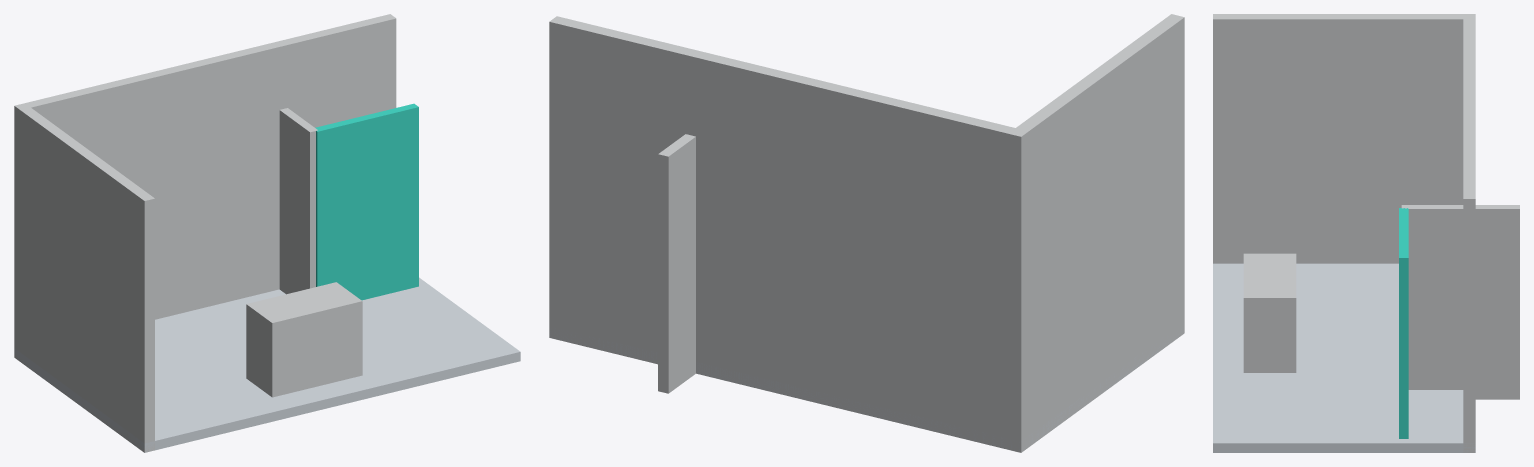
3 views of the same model, side by side, from view 1: azimuth 30°, elevation 25°; view 2: azimuth 150°, elevation 25°; view 3: azimuth 270°, elevation 25° (orthographic). The views are drawn at different scales.
Parts seen in each view (by area): view 1: Exhibition Booth Concept; view 2: Exhibition Booth Concept; view 3: Exhibition Booth Concept.
Part boxes in pixels (<box>): Exhibition Booth Concept: <box>14,14,520,452</box>; Exhibition Booth Concept: <box>549,14,1184,452</box>; Exhibition Booth Concept: <box>1213,14,1519,452</box>.
Bounding box in the file's own units: 5 × 3.2 × 3.51.
